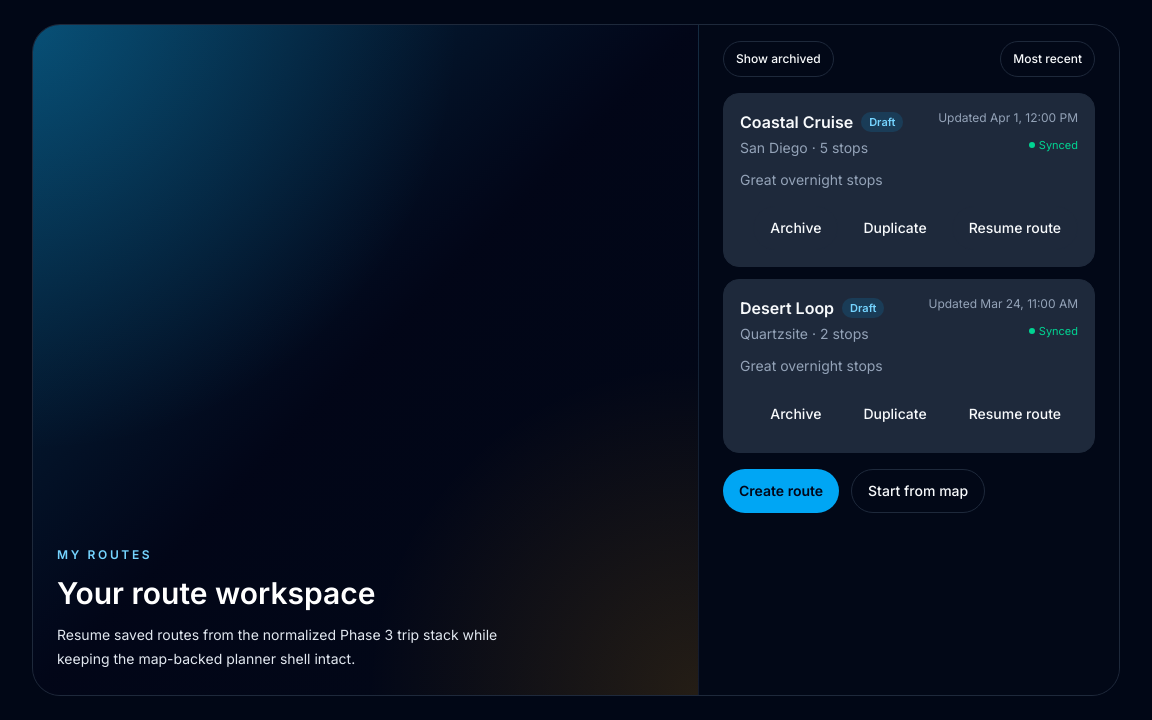
Test: MyRoutesScreen › Route cards (Story 3.1) › sort toggle reverses trip order from most-recent to oldest-first
Expected: the heading "Coastal Cruise" is shown, [740,110,853,134]
Expected: the heading "Desert Loop" is shown, [740,296,834,320]
Click the button with test id "sort-control" at (1048, 59), box [1000,41,1095,77]
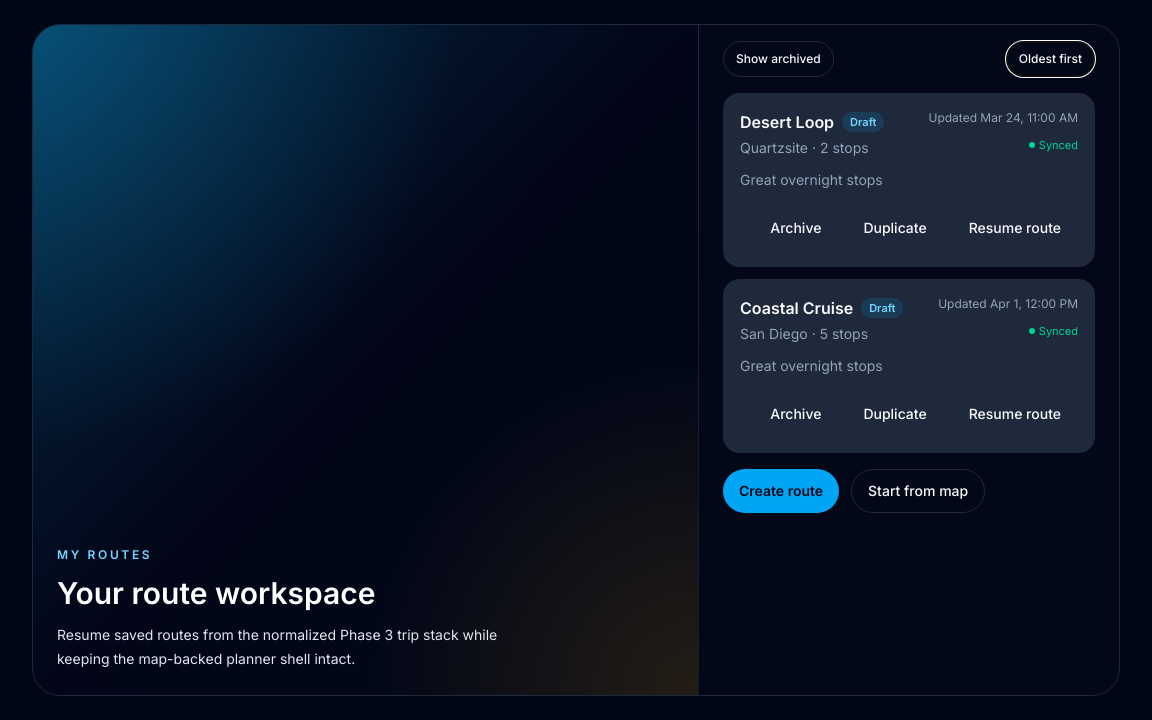
Expected: the heading "Desert Loop" is shown, [740,110,834,134]
Expected: the button with test id "sort-control" reads "Oldest first", [1006,41,1095,77]
